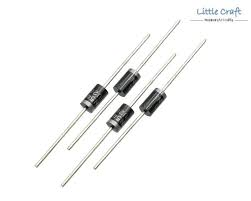diode: (137, 86, 177, 137), (78, 80, 111, 118), (104, 95, 135, 135), (114, 63, 144, 102)
